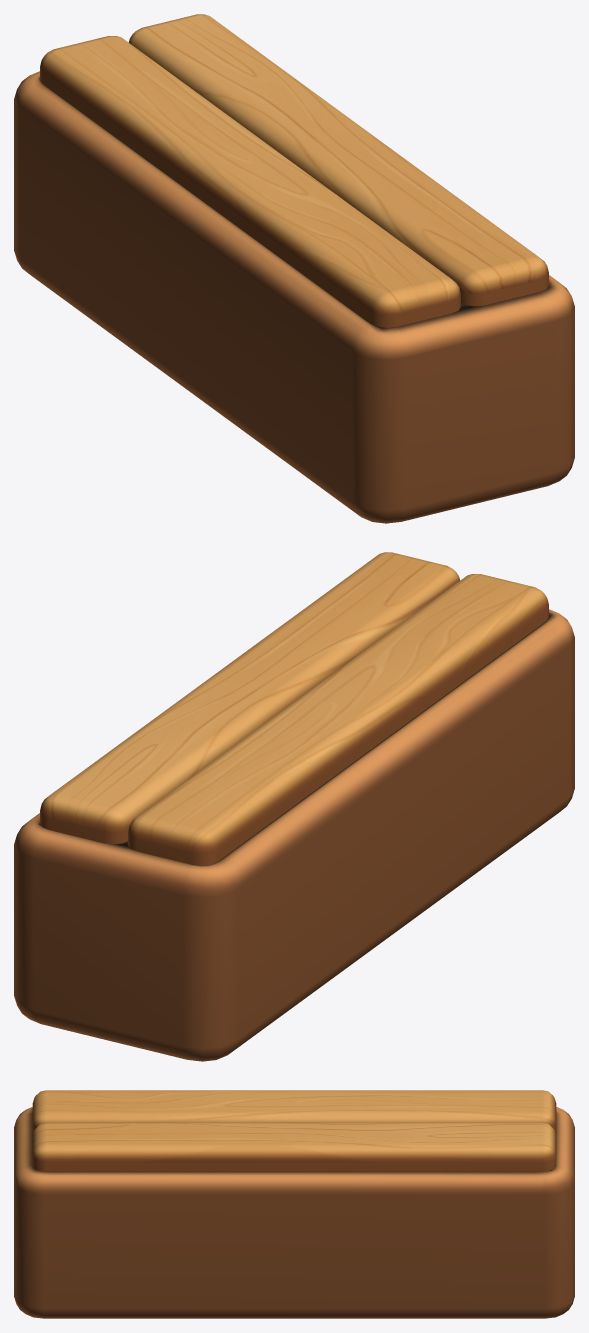
File: WoodenBox_1x3.fbx
3 renders of one model, top to bottom at view 1: azimuth 30°, elevation 25°; view 2: azimuth 150°, elevation 25°; view 3: azimuth 270°, elevation 25°, orthographic. The views are drawn at different scales.
Visible parts, largest first — view 1: box1x3; view 2: box1x3; view 3: box1x3.
Part boxes in pixels (x1,y1,x2,y2): box1x3: (14,14,574,523); box1x3: (14,552,574,1061); box1x3: (14,1090,574,1318).
Size of the model in its own units: 1.02 by 0.9929 by 3.03.
